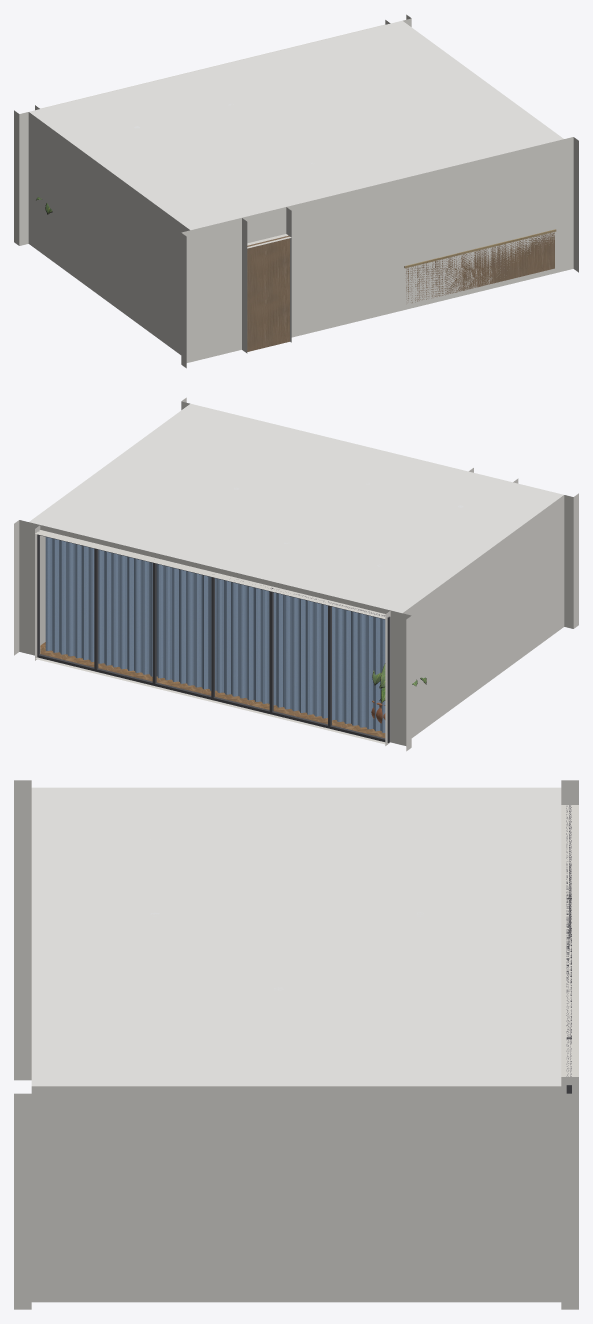
File: unit.glb
The picture shows the model from 3 angles, top to bottom: view 1: azimuth 30°, elevation 25°; view 2: azimuth 150°, elevation 25°; view 3: azimuth 270°, elevation 25°; orthographic projection. The views are drawn at different scales.
Parts seen in each view (by area): view 1: static_arch, door_leaf; view 2: static_arch, curtain_right, curtain_left, potted_plant_02; view 3: static_arch.
Boxes of the visible parts, box(x1,y1,x2,y2) form: static_arch: box(14, 14, 578, 368); door_leaf: box(247, 235, 289, 351); static_arch: box(14, 397, 578, 751); curtain_right: box(45, 537, 223, 692); curtain_left: box(224, 580, 385, 732); potted_plant_02: box(371, 663, 426, 723); static_arch: box(14, 780, 578, 1309).
Bounding box in the file's own units: 8.4 × 2.7 × 6.4.
49 materials, 35 textured.
